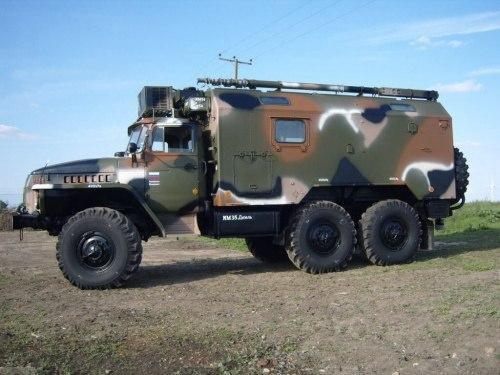truck: (31, 84, 445, 375)
